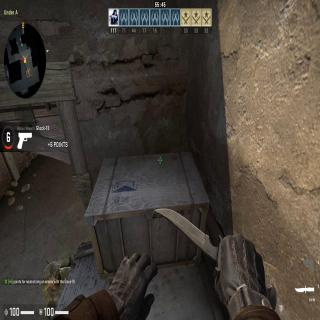CT-Head: (42, 263, 62, 291)
